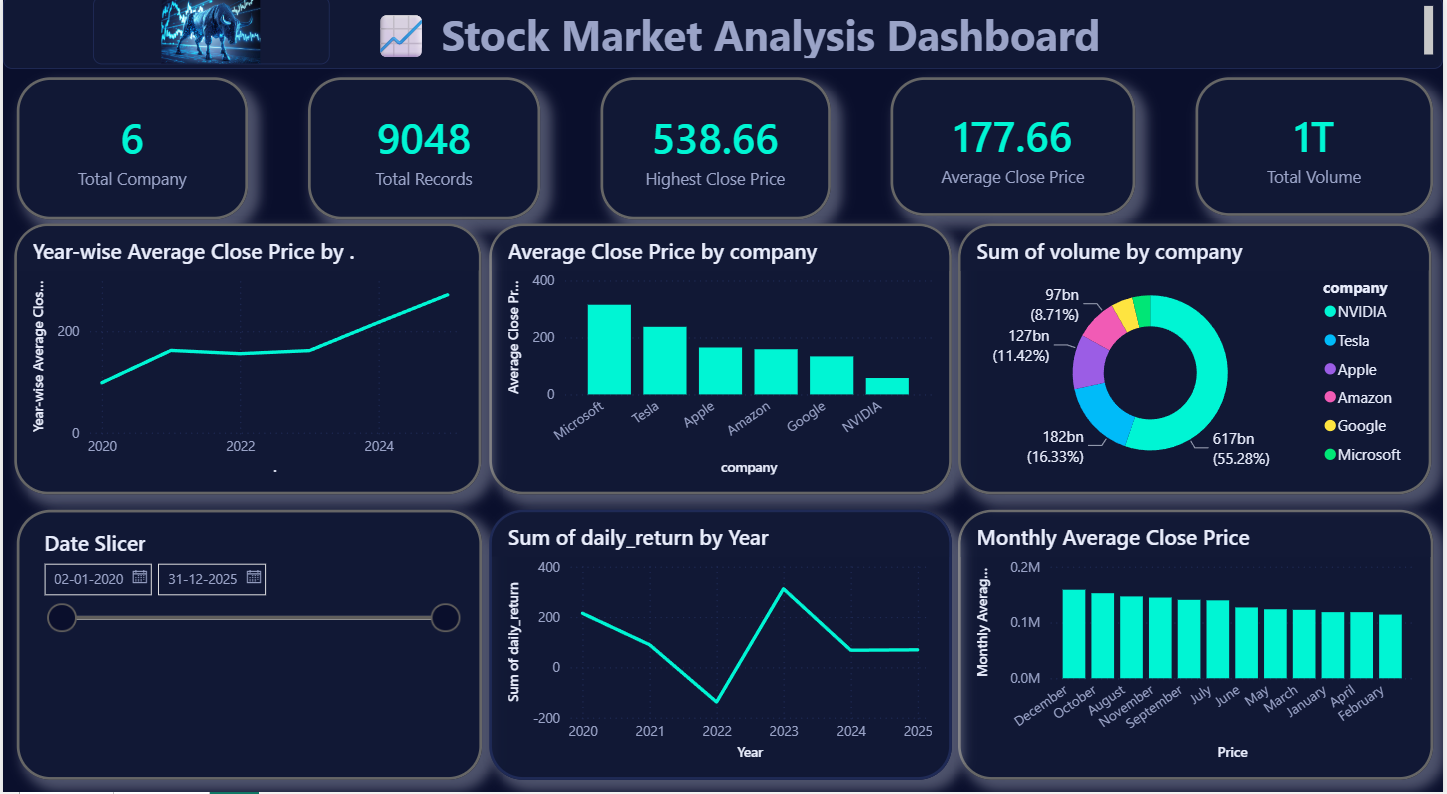

The dashboard page shown, as its layout file describes it:
{"tool":"powerbi","page":{"name":"Page 1","canvas":[1280,720],"ordinal":0},"visuals":[{"type":"card","fields":{"Values":["Count(public stock_data.company)"]},"box":[12.2,72.2,205.6,126.7],"z":0},{"type":"card","fields":{"Values":["CountNonNull(public stock_data.date)"]},"box":[271.1,72.2,206.7,126.7],"z":1000},{"type":"card","fields":{"Values":["Avg(public stock_data.close)"]},"box":[788.9,72.2,217.8,123.3],"z":2000},{"type":"card","fields":{"Values":["Sum(public stock_data.volume)"]},"box":[1060,72.2,211.1,123.3],"z":3000},{"type":"card","fields":{"Values":["Max(public stock_data.close)"]},"box":[531.1,72.2,204.4,126.7],"z":4000},{"type":"clusteredColumnChart","fields":{"Category":["public stock_data.company"],"Y":["Avg(public stock_data.close)"]},"box":[432.2,202.2,411.1,241.1],"z":5000},{"type":"lineChart","fields":{"Category":["public stock_data.year"],"Y":["Avg(public stock_data.close)"]},"box":[10,202.2,415.6,241.1],"z":6000},{"type":"clusteredColumnChart","title":"Monthly Average Close Price","fields":{"Category":["public stock_data.month"],"Y":["Sum(public stock_data.close)"]},"box":[848.9,456.7,422.2,240],"z":7000},{"type":"slicer","fields":{"Values":["public stock_data.date"]},"box":[12.2,456.7,413.3,240],"z":8000},{"type":"textbox","box":[0,0,1280,64.4],"z":9000},{"type":"donutChart","fields":{"Category":["public stock_data.company"],"Y":["Sum(public stock_data.volume)"]},"box":[848.9,202.2,421.1,241.1],"z":10000},{"type":"image","box":[80,0,210,61.1],"z":11000},{"type":"lineChart","fields":{"Category":["public stock_data.date.Variation.Date Hierarchy.Year","public stock_data.date.Variation.Date Hierarchy.Quarter","public stock_data.date.Variation.Date Hierarchy.Month","public stock_data.date.Variation.Date Hierarchy.Day"],"Y":["Sum(public stock_data.daily_return)"]},"box":[432.2,456.7,411.1,240],"z":12000}]}

Visuals, with their boxes in screenshot pixels (x1, y1, x2, y2), scaled from the page's 1280x720 canvas onto the 1447x794 screenshot:
card - Count(public stock_data.company): Rect(14, 80, 246, 219)
card - CountNonNull(public stock_data.date): Rect(306, 80, 540, 219)
card - Avg(public stock_data.close): Rect(892, 80, 1138, 216)
card - Sum(public stock_data.volume): Rect(1198, 80, 1437, 216)
card - Max(public stock_data.close): Rect(600, 80, 831, 219)
clusteredColumnChart - public stock_data.company x Avg(public stock_data.close): Rect(489, 223, 953, 489)
lineChart - public stock_data.year x Avg(public stock_data.close): Rect(11, 223, 481, 489)
"Monthly Average Close Price" clusteredColumnChart: Rect(960, 504, 1437, 768)
slicer - public stock_data.date: Rect(14, 504, 481, 768)
textbox: Rect(0, 0, 1446, 71)
donutChart - public stock_data.company x Sum(public stock_data.volume): Rect(960, 223, 1436, 489)
image: Rect(90, 0, 328, 67)
lineChart - public stock_data.date.Variation.Date Hierarchy.Year x public stock_data.date.Variation.Date Hierarchy.Quarter: Rect(489, 504, 953, 768)
